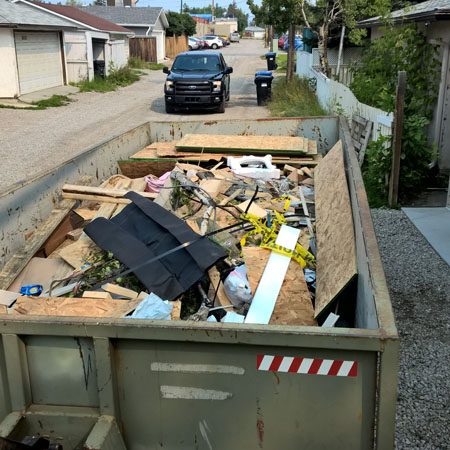Dumpster: (9, 106, 404, 450)
